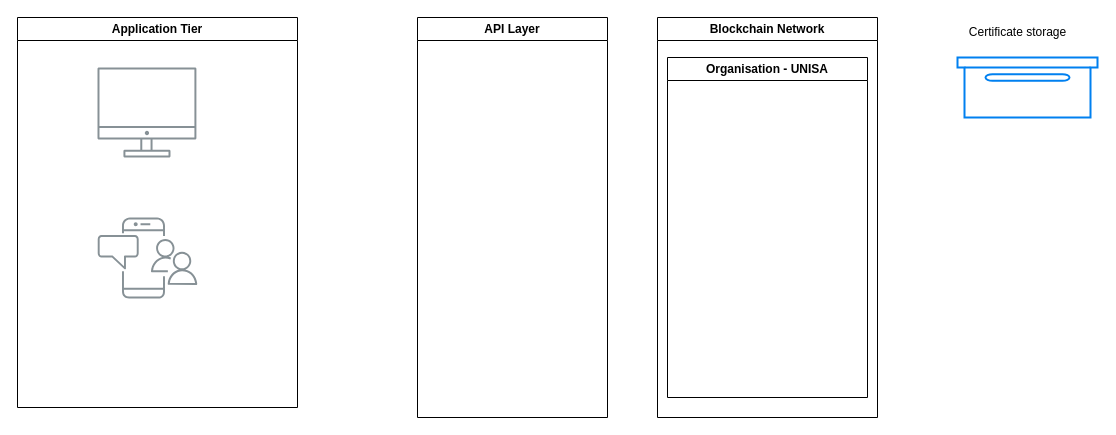
Image size: 1116x435. Some labels were removed from this diagram. Here are the shapes that lost their labels. From the top down, the centre of each, then its label:
At pixel 146 112: "Desktop Laptop".
At pixel 147 257: "Phone\Tablet".
